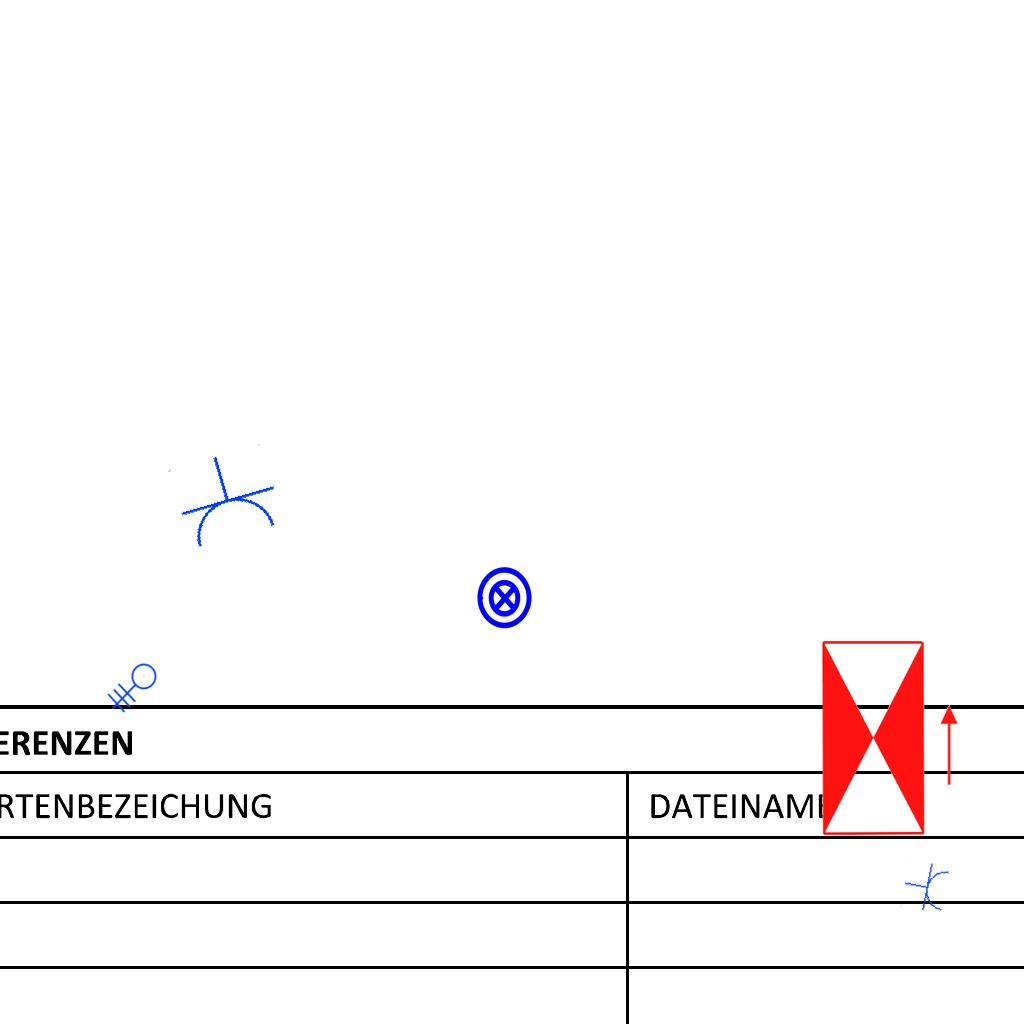Elektroanschluss_allgemein_400V_Geraeteanschlussdose_400V: (107, 663, 165, 719)
Fluchtwegpiktogramm: (816, 634, 963, 842)
Schukosteckdose_einfach: (165, 442, 287, 555), (900, 858, 952, 917)
Taster_beleuchtet: (472, 565, 538, 631)
